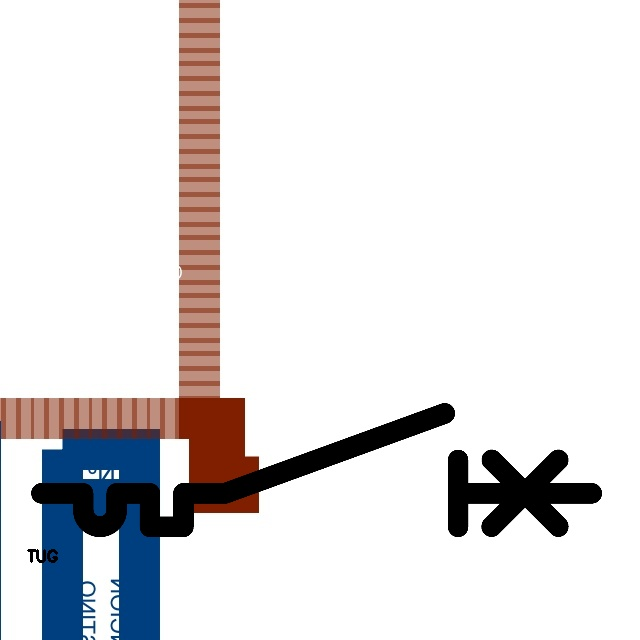interruptor_termomagnetico: (27, 399, 606, 541)
